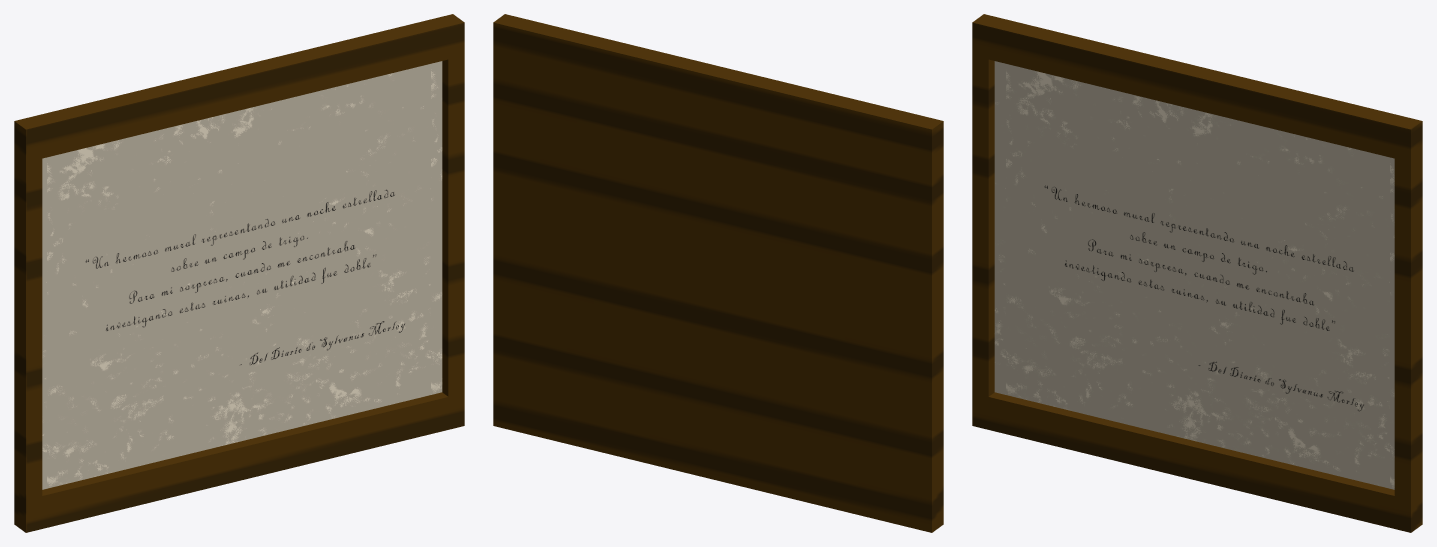
Rendered from Info_Mural.glb.
The picture shows the model from 3 angles, left to right: view 1: azimuth 30°, elevation 25°; view 2: azimuth 150°, elevation 25°; view 3: azimuth 330°, elevation 25°; orthographic projection.
Visible parts, largest first — view 1: Cartel_Moderno.001, Cartel_Moderno; view 2: Cartel_Moderno; view 3: Cartel_Moderno.001, Cartel_Moderno.
Boxes of the visible parts, x1=… form: Cartel_Moderno.001: x1=42, y1=61, x2=442, y2=489; Cartel_Moderno: x1=14, y1=14, x2=464, y2=532; Cartel_Moderno: x1=493, y1=14, x2=943, y2=532; Cartel_Moderno.001: x1=994, y1=61, x2=1394, y2=489; Cartel_Moderno: x1=972, y1=14, x2=1422, y2=532.
Bounding box in the file's own units: 2.27 × 2 × 0.1049.
2 materials, 2 textured.
